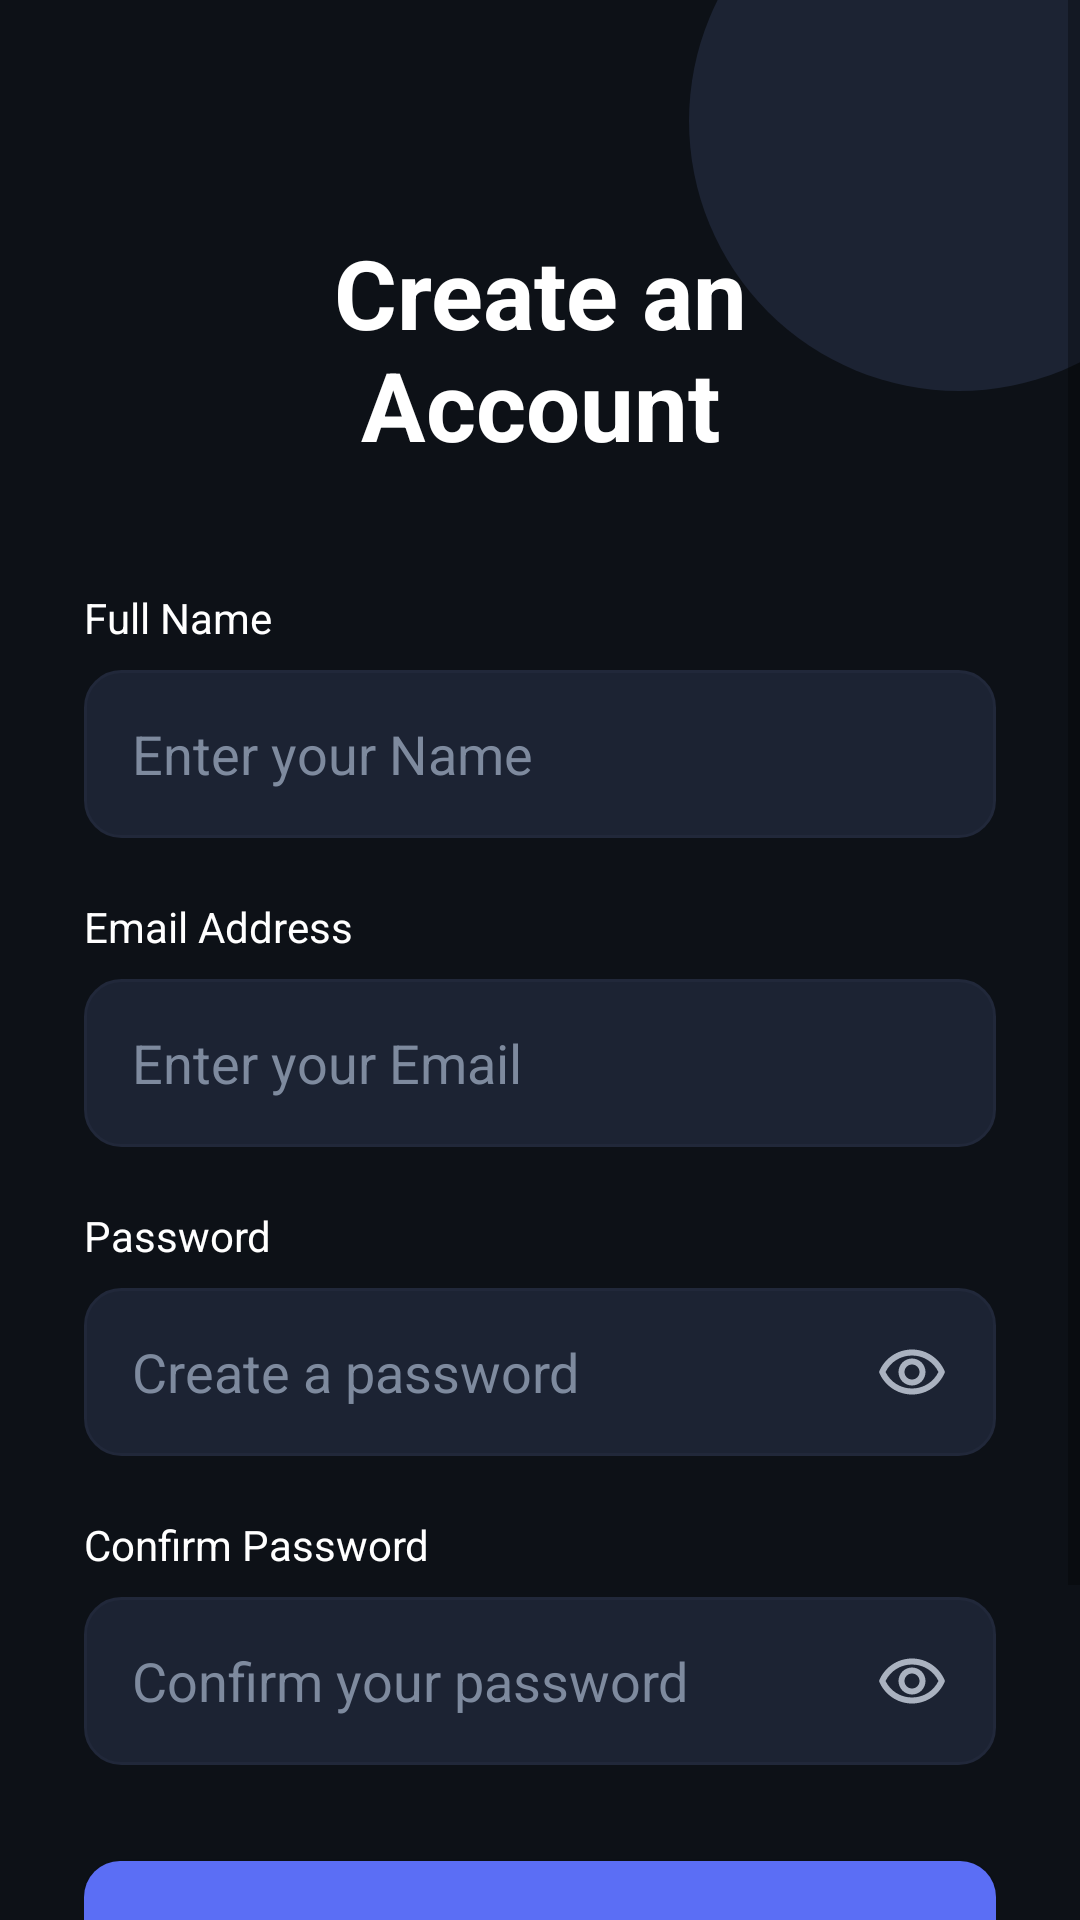

Where icons sit on this 1080*1920 app screen, as bbox(x1, y1, x2, y2):
eye: bbox(879, 1349, 945, 1395), bbox(879, 1658, 945, 1704)
